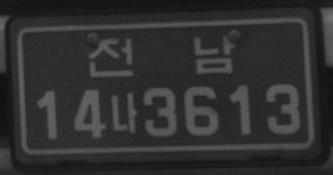1: (227, 84, 256, 136), (34, 89, 62, 140)
3: (265, 81, 301, 136), (142, 85, 178, 139)
4: (72, 88, 107, 140)
6: (182, 84, 220, 137)
나: (109, 90, 138, 135)
전남_D: (86, 33, 236, 78)
